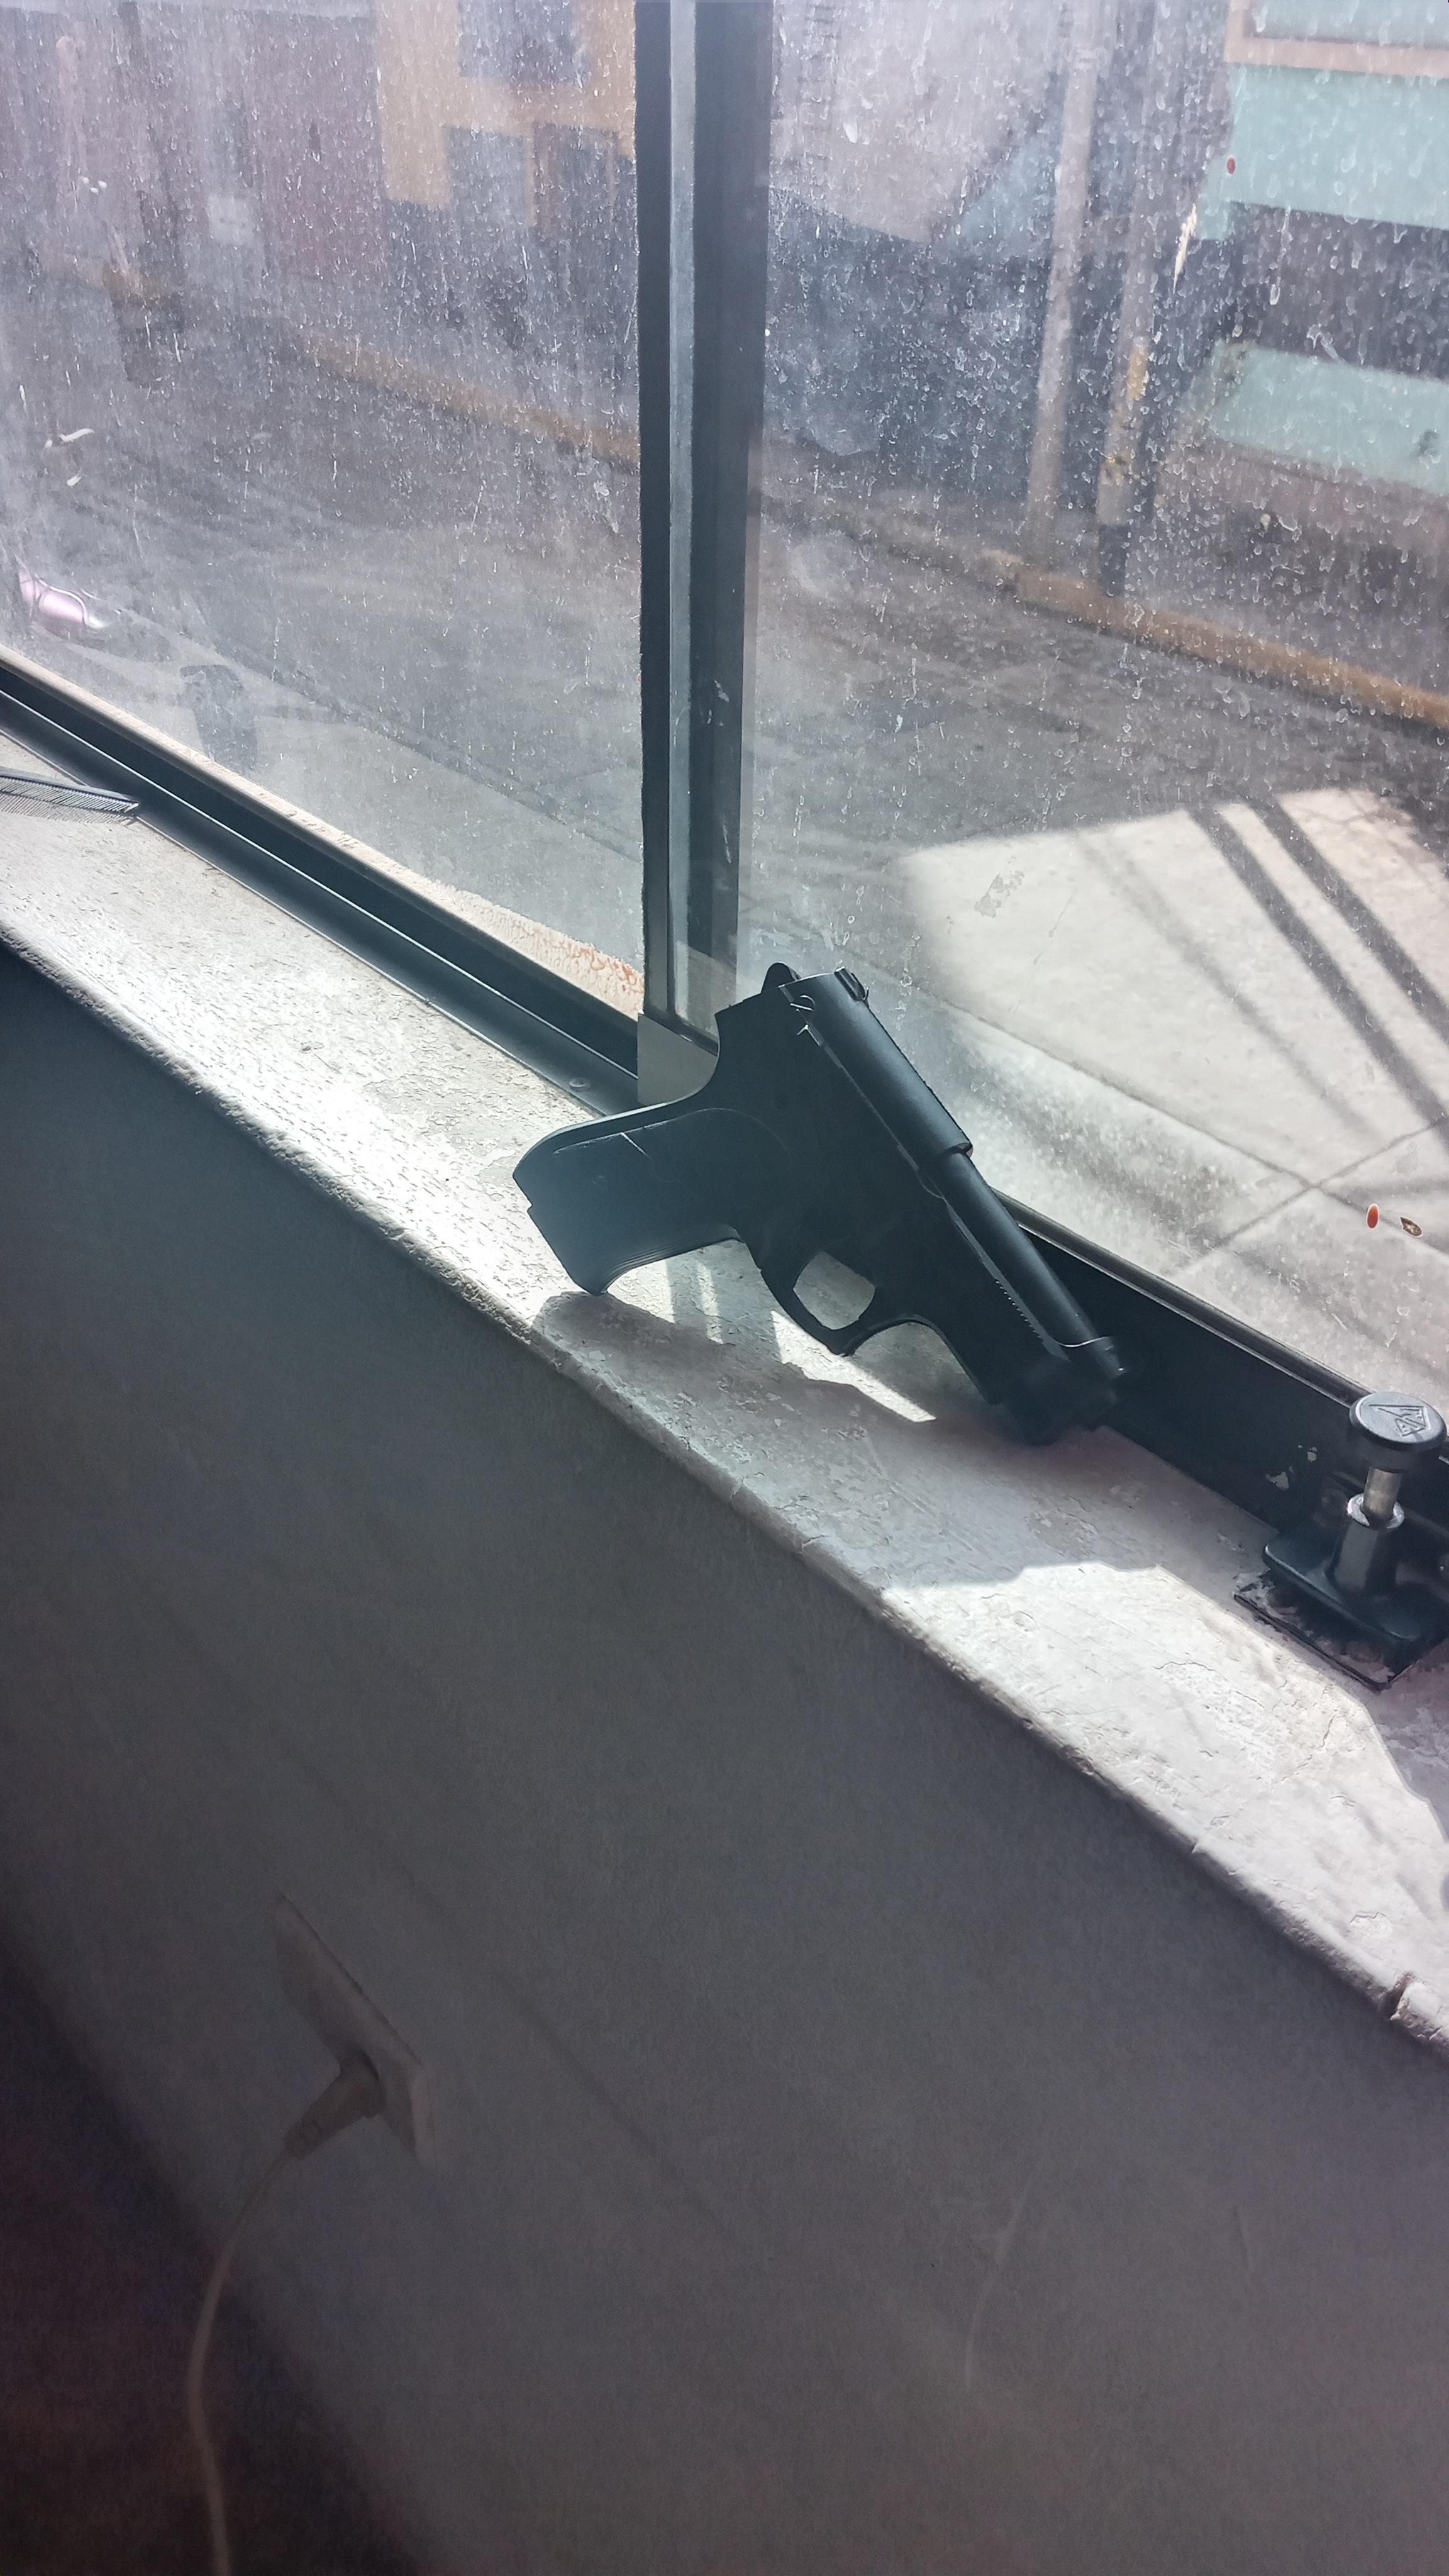Arma: (522, 1012, 1111, 1437)
